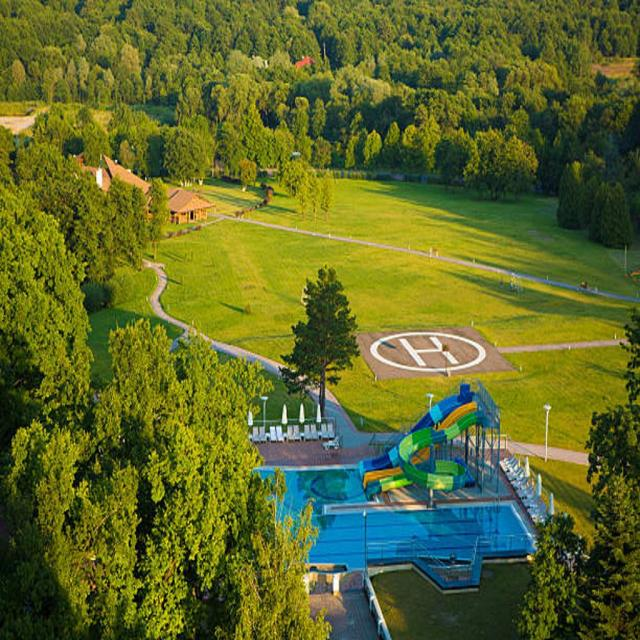helipad: (370, 330, 484, 371)
